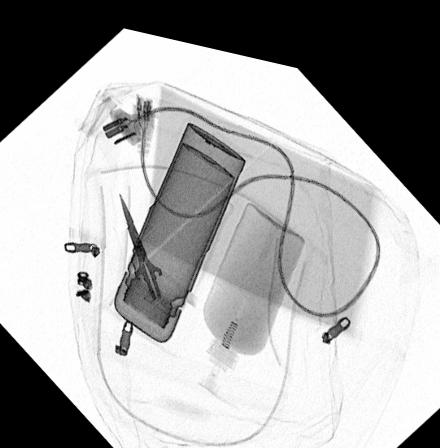Scissors: (120, 187, 194, 314)
